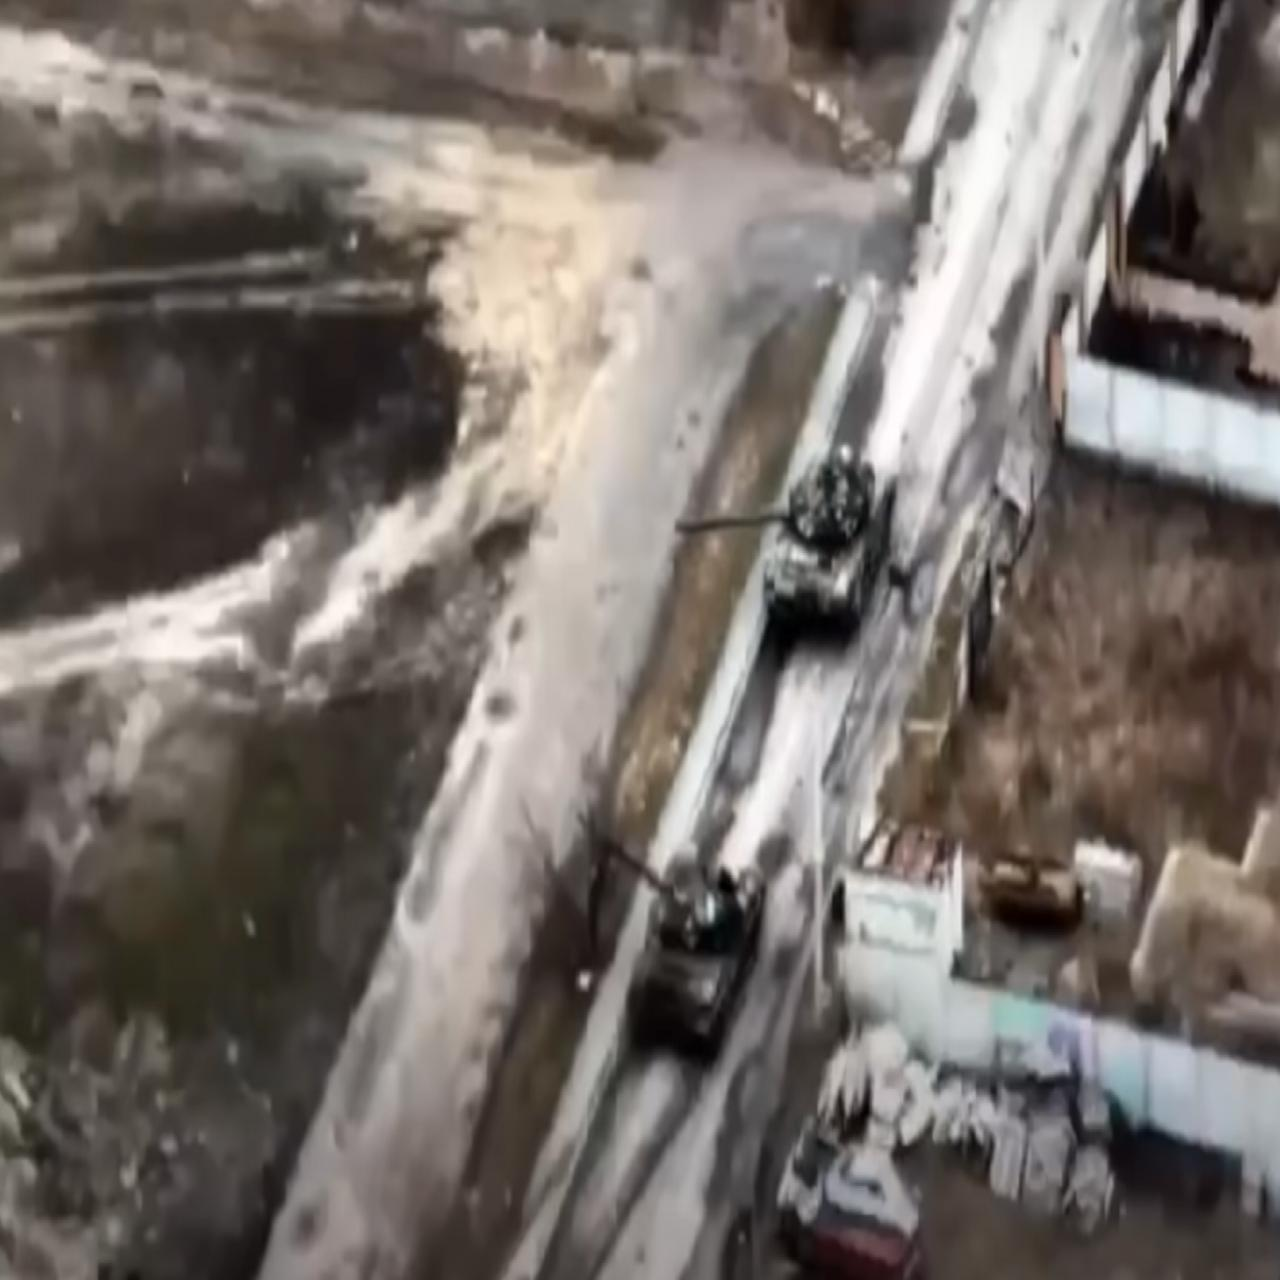MIL_Veh: (578, 805, 769, 1058), (663, 445, 898, 645)
